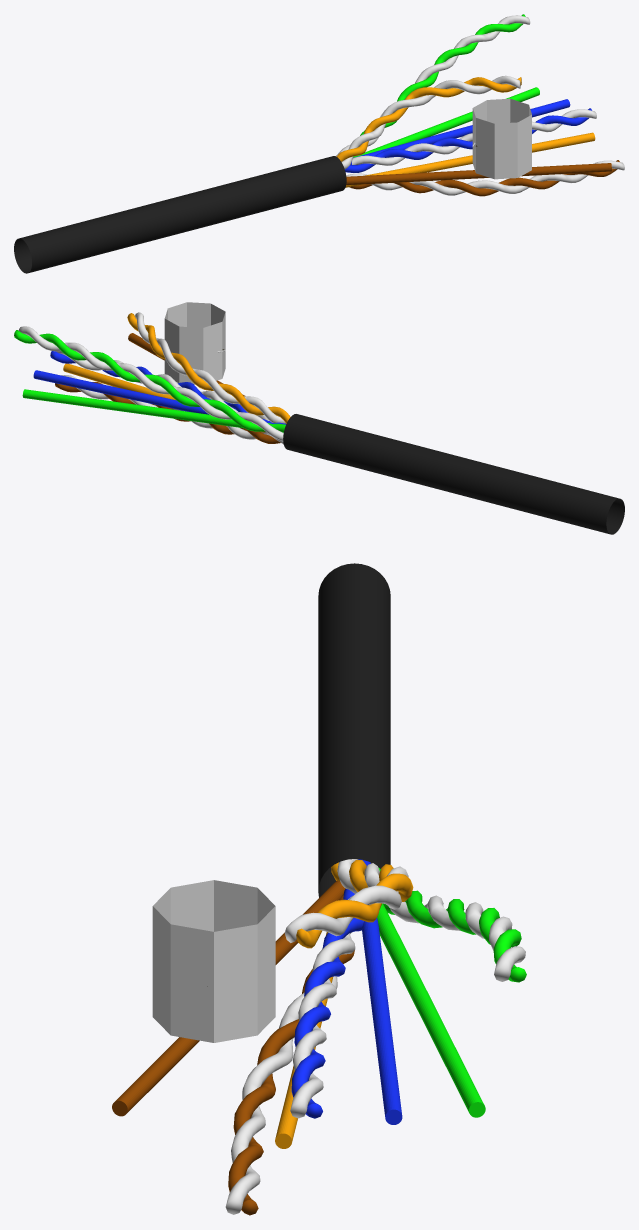
File: staight throug cable.fbx
3 views of the same model, one above another, from view 1: azimuth 30°, elevation 25°; view 2: azimuth 150°, elevation 25°; view 3: azimuth 270°, elevation 25° (orthographic). The views are drawn at different scales.
Parts seen in each view (by area): view 1: cable, Cylinder.002, white-orange, white brown, white-blue, white-green, brown, orange, green, blue; view 2: cable, white-green, Cylinder.002, white-orange, green, blue, white brown, white-blue, orange; view 3: cable, Cylinder.002, white brown, white-blue, white-orange, white-green, green, blue, brown, orange.
Boxes of the visible parts, <box> form: cable: <box>14,156,346,273</box>; Cylinder.002: <box>472,98,531,179</box>; white-orange: <box>336,75,521,168</box>; white brown: <box>346,160,624,196</box>; white-blue: <box>345,108,596,172</box>; white-green: <box>336,14,530,156</box>; brown: <box>346,163,611,185</box>; orange: <box>345,132,595,187</box>; green: <box>353,87,539,157</box>; blue: <box>350,99,570,164</box>; cable: <box>283,414,624,534</box>; white-green: <box>14,326,285,440</box>; Cylinder.002: <box>164,302,225,384</box>; white-orange: <box>127,312,290,423</box>; green: <box>22,389,271,428</box>; blue: <box>33,370,286,424</box>; white brown: <box>55,375,283,444</box>; white-blue: <box>50,351,285,423</box>; orange: <box>63,363,264,432</box>; cable: <box>318,563,390,897</box>; Cylinder.002: <box>152,880,275,1042</box>; white brown: <box>225,893,354,1215</box>; white-blue: <box>290,888,363,1118</box>; white-orange: <box>284,859,413,948</box>; white-green: <box>378,867,526,982</box>; green: <box>377,903,485,1117</box>; blue: <box>358,859,402,1124</box>; brown: <box>112,880,345,1116</box>; orange: <box>275,932,332,1148</box>.
Bounding box in the file's own units: 2145 × 421 × 676.
